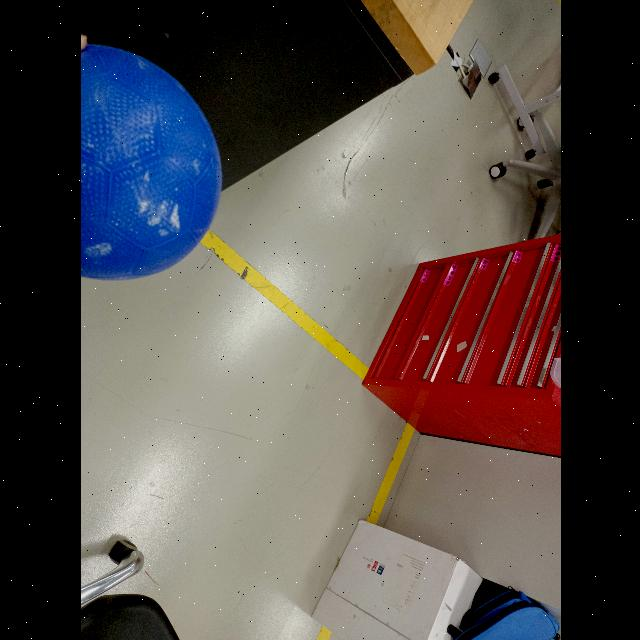B: (80, 45, 222, 282)
